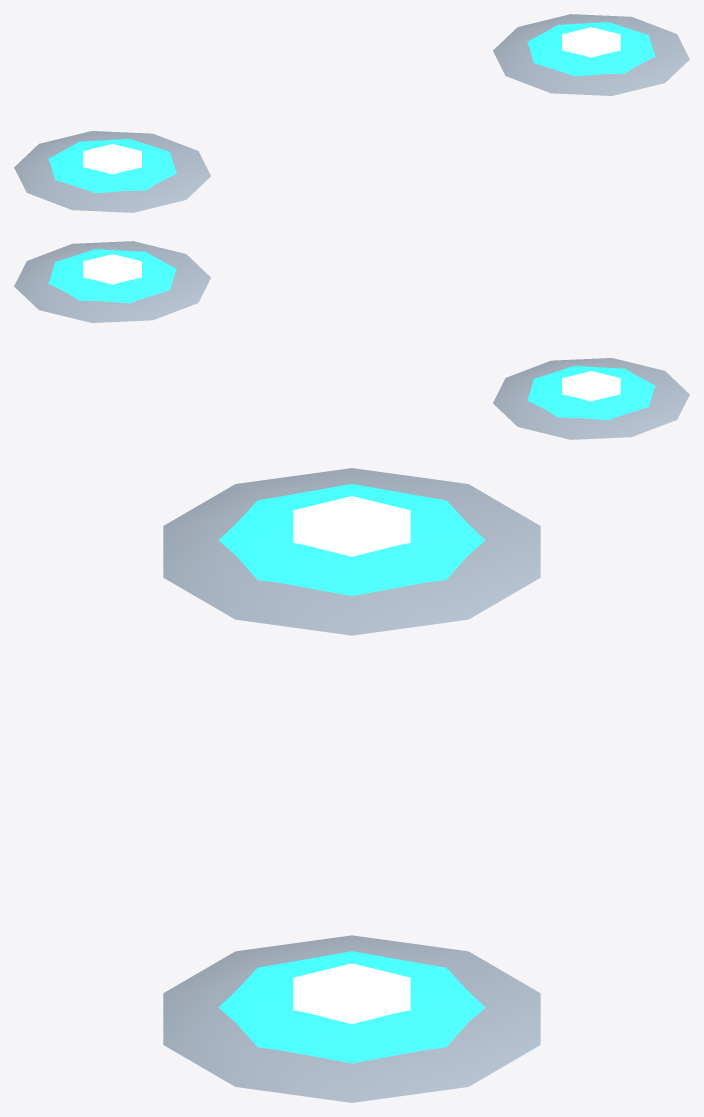
File: bf_elite_shield_burst.glb
The picture shows the model from 3 angles, top to bottom: view 1: azimuth 30°, elevation 25°; view 2: azimuth 150°, elevation 25°; view 3: azimuth 270°, elevation 25°; orthographic projection. The views are drawn at different scales.
Visible parts, largest first — view 1: ELITE // WARDEN EYESPOTS; view 2: ELITE // WARDEN EYESPOTS; view 3: ELITE // WARDEN EYESPOTS.
Part boxes in pixels (x1,y1,x2,y2): ELITE // WARDEN EYESPOTS: [14, 14, 689, 212]; ELITE // WARDEN EYESPOTS: [14, 241, 689, 439]; ELITE // WARDEN EYESPOTS: [163, 468, 540, 1102].
Bounding box in the file's own units: 2.12 × 0.0807 × 0.5335.
